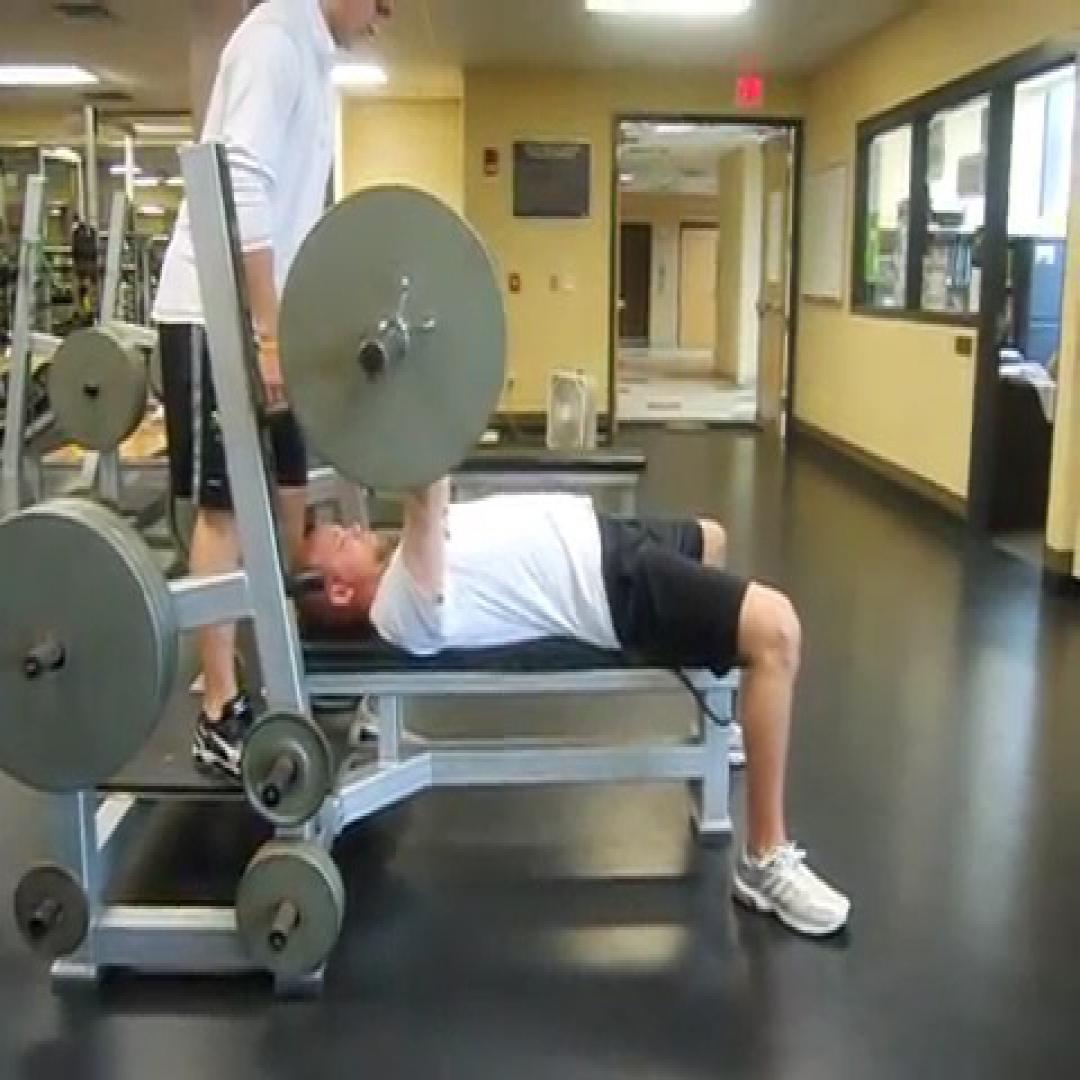Bar: (353, 336, 389, 381)
Barbell: (276, 183, 508, 492)
